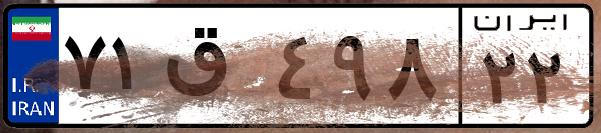1: (110, 28, 158, 98)
2: (475, 38, 525, 113), (525, 38, 570, 115)
4: (270, 28, 330, 110)
7: (57, 26, 110, 100)
8: (385, 28, 445, 110)
9: (330, 28, 385, 110)
ق: (158, 20, 270, 120)
